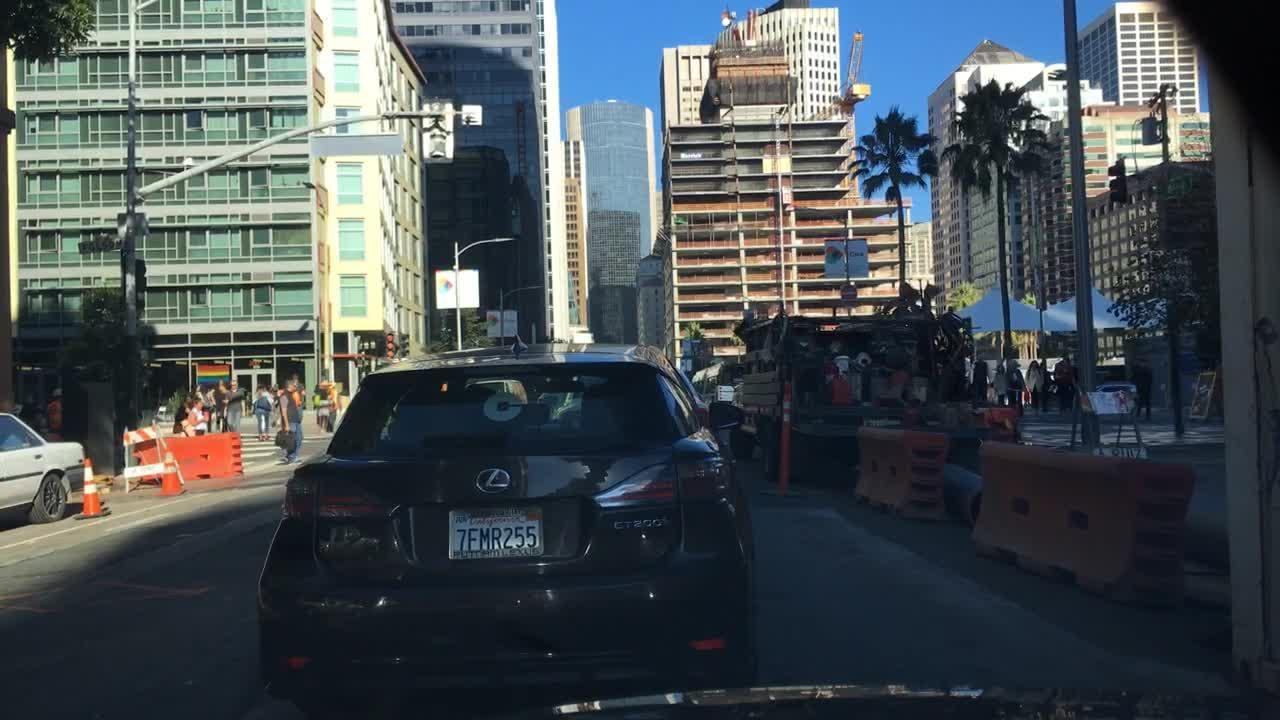lexus: (469, 462, 520, 500)
